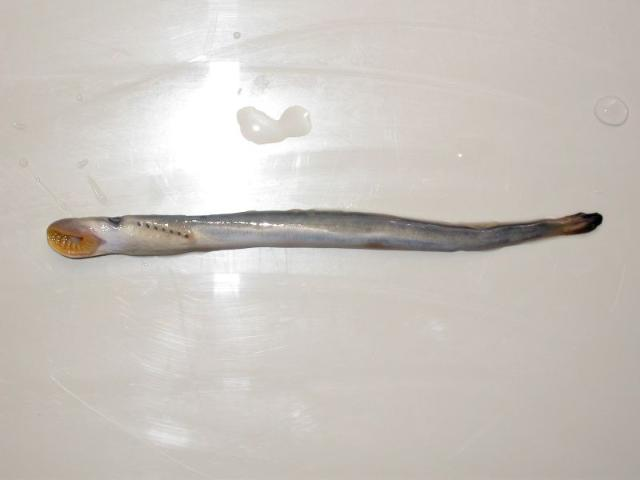Sirip Ekor: (541, 191, 617, 265)
